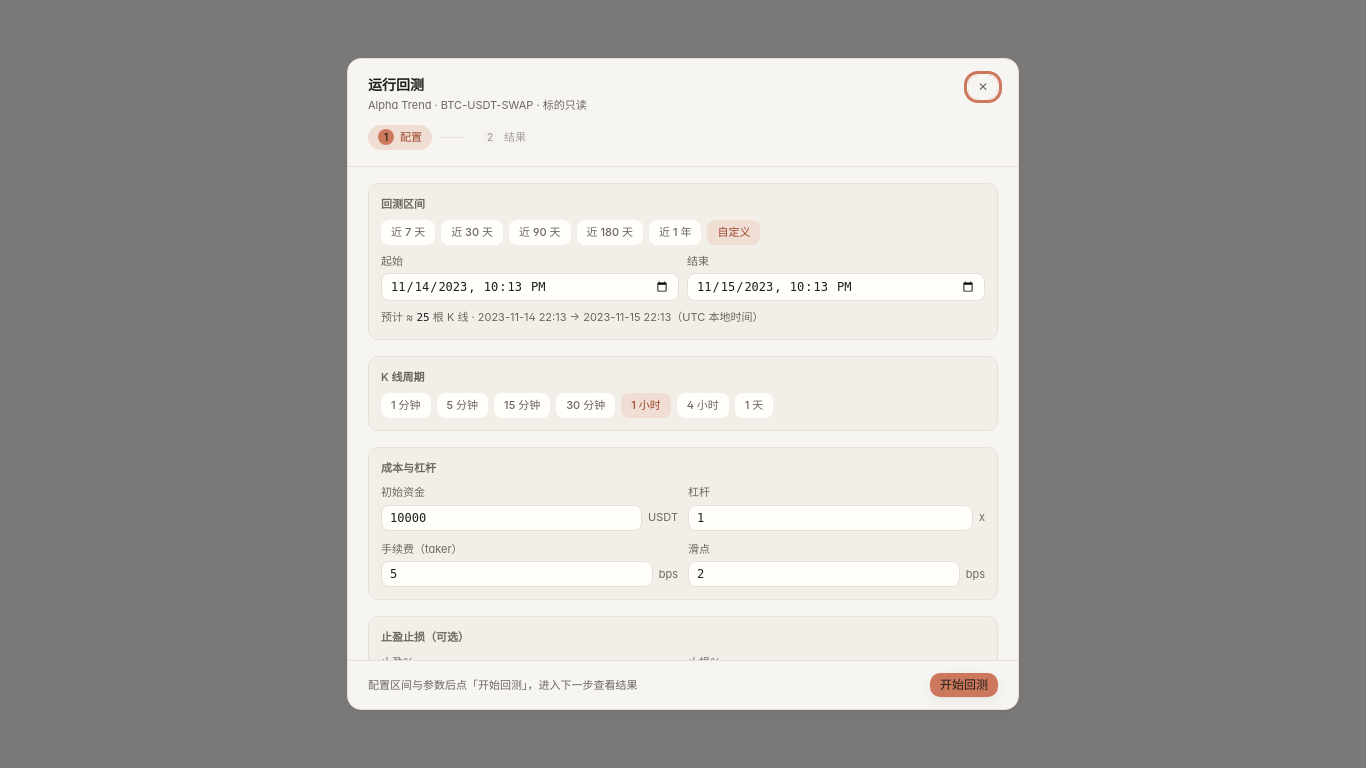
Test: BacktestConfigModal › renders the error state and a retry action on the result step
Click the button "开始回测": (964, 685) [930, 673, 998, 697]
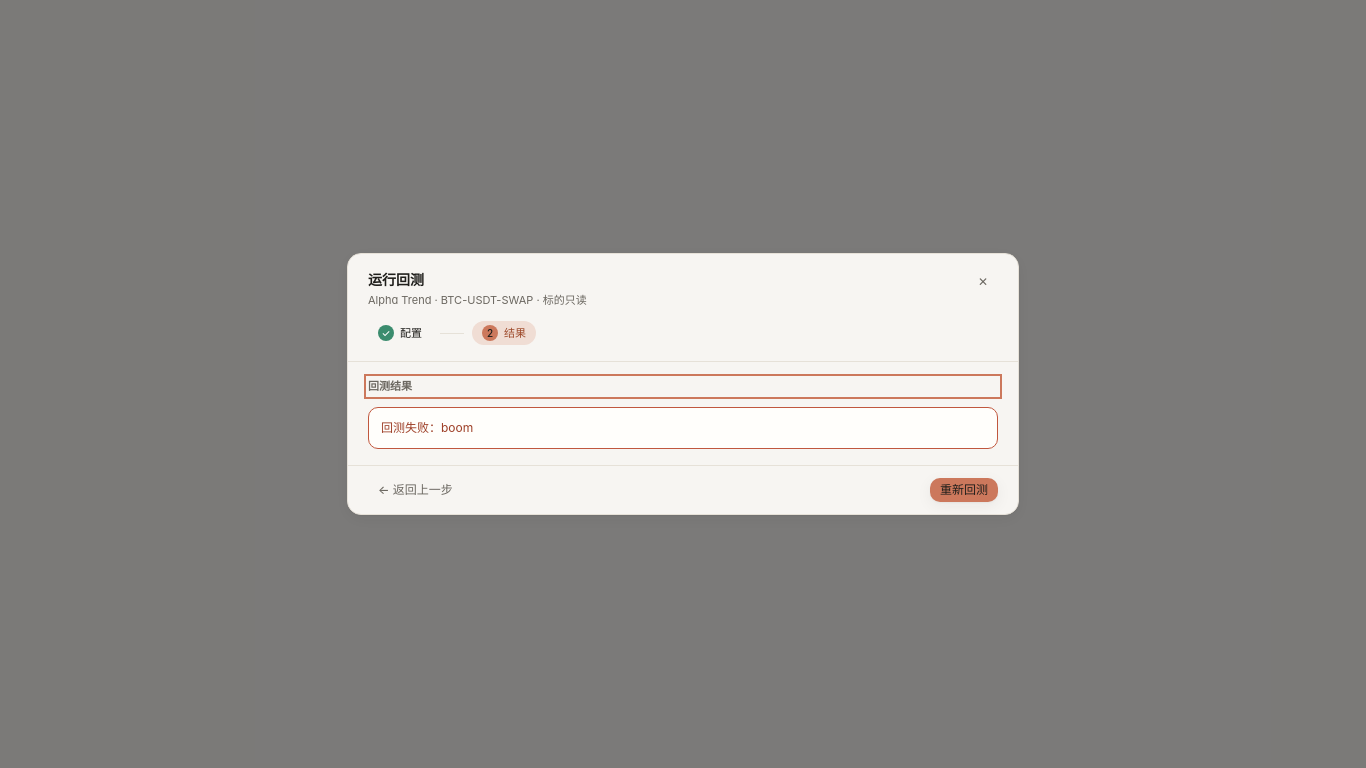
expect the text "回测失败：boom" is shown: met, box [368, 407, 998, 449]
expect the button "重新回测" is shown: met, box [930, 478, 998, 502]
